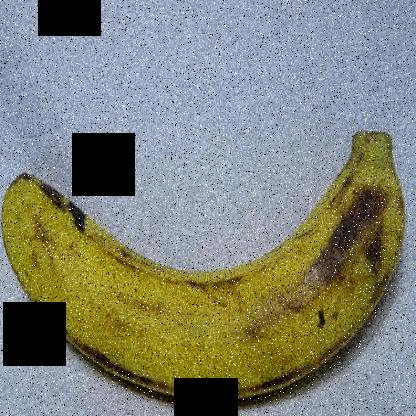overripe: (0, 107, 415, 414)
